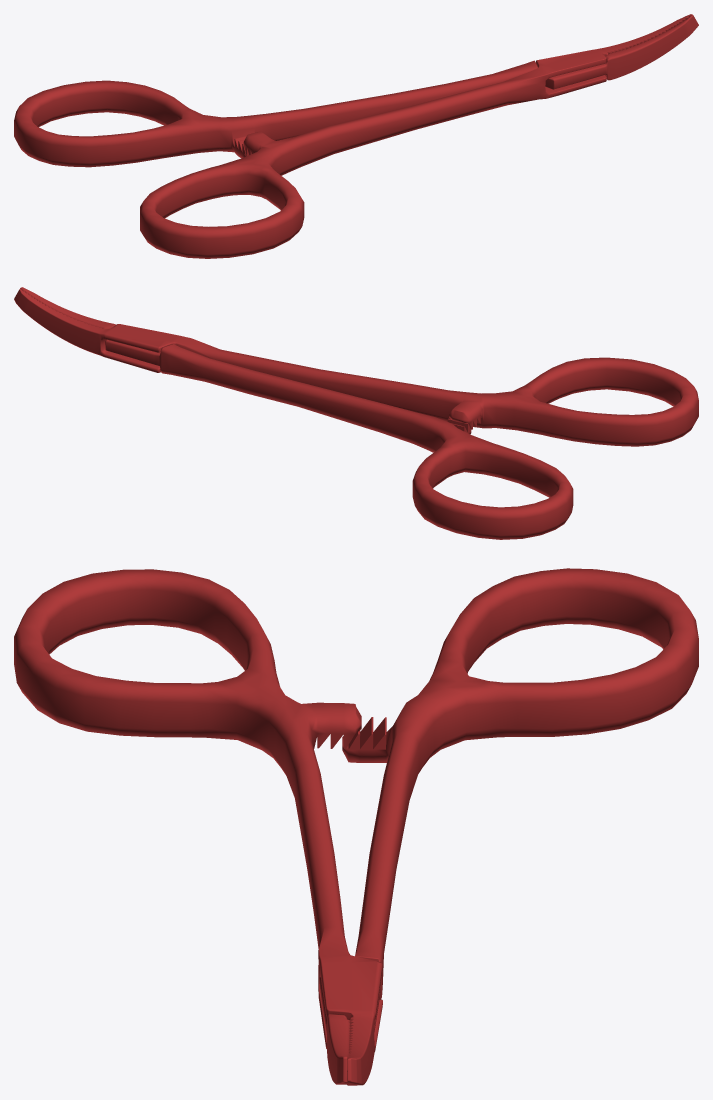
The model's file is Crile_Curved.fbx.
3 views of the same model, one above another, from view 1: azimuth 30°, elevation 25°; view 2: azimuth 150°, elevation 25°; view 3: azimuth 270°, elevation 25° (orthographic). The views are drawn at different scales.
Visible parts, largest first — view 1: Crile_HemostaticForceps_Rig_v2_0001:Geo_CriHem__l_Crv_Arm_01, Crile_HemostaticForceps_Rig_v2_0001:Geo_CriHem__r_Crv_Arm_01; view 2: Crile_HemostaticForceps_Rig_v2_0001:Geo_CriHem__r_Crv_Arm_01, Crile_HemostaticForceps_Rig_v2_0001:Geo_CriHem__l_Crv_Arm_01; view 3: Crile_HemostaticForceps_Rig_v2_0001:Geo_CriHem__r_Crv_Arm_01, Crile_HemostaticForceps_Rig_v2_0001:Geo_CriHem__l_Crv_Arm_01.
Part boxes in pixels (x1,y1,x2,y2): Crile_HemostaticForceps_Rig_v2_0001:Geo_CriHem__l_Crv_Arm_01: [14, 14, 698, 167]; Crile_HemostaticForceps_Rig_v2_0001:Geo_CriHem__r_Crv_Arm_01: [140, 14, 691, 258]; Crile_HemostaticForceps_Rig_v2_0001:Geo_CriHem__r_Crv_Arm_01: [14, 288, 698, 446]; Crile_HemostaticForceps_Rig_v2_0001:Geo_CriHem__l_Crv_Arm_01: [20, 287, 573, 539]; Crile_HemostaticForceps_Rig_v2_0001:Geo_CriHem__r_Crv_Arm_01: [14, 569, 382, 1085]; Crile_HemostaticForceps_Rig_v2_0001:Geo_CriHem__l_Crv_Arm_01: [319, 568, 698, 1084].
Bounding box in the file's own units: 12.38 × 0.8264 × 6.89.
